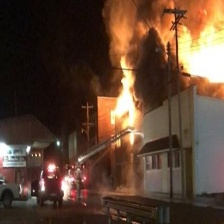fire: (180, 30, 224, 82), (112, 59, 138, 130)
smoke: (72, 1, 212, 97)
